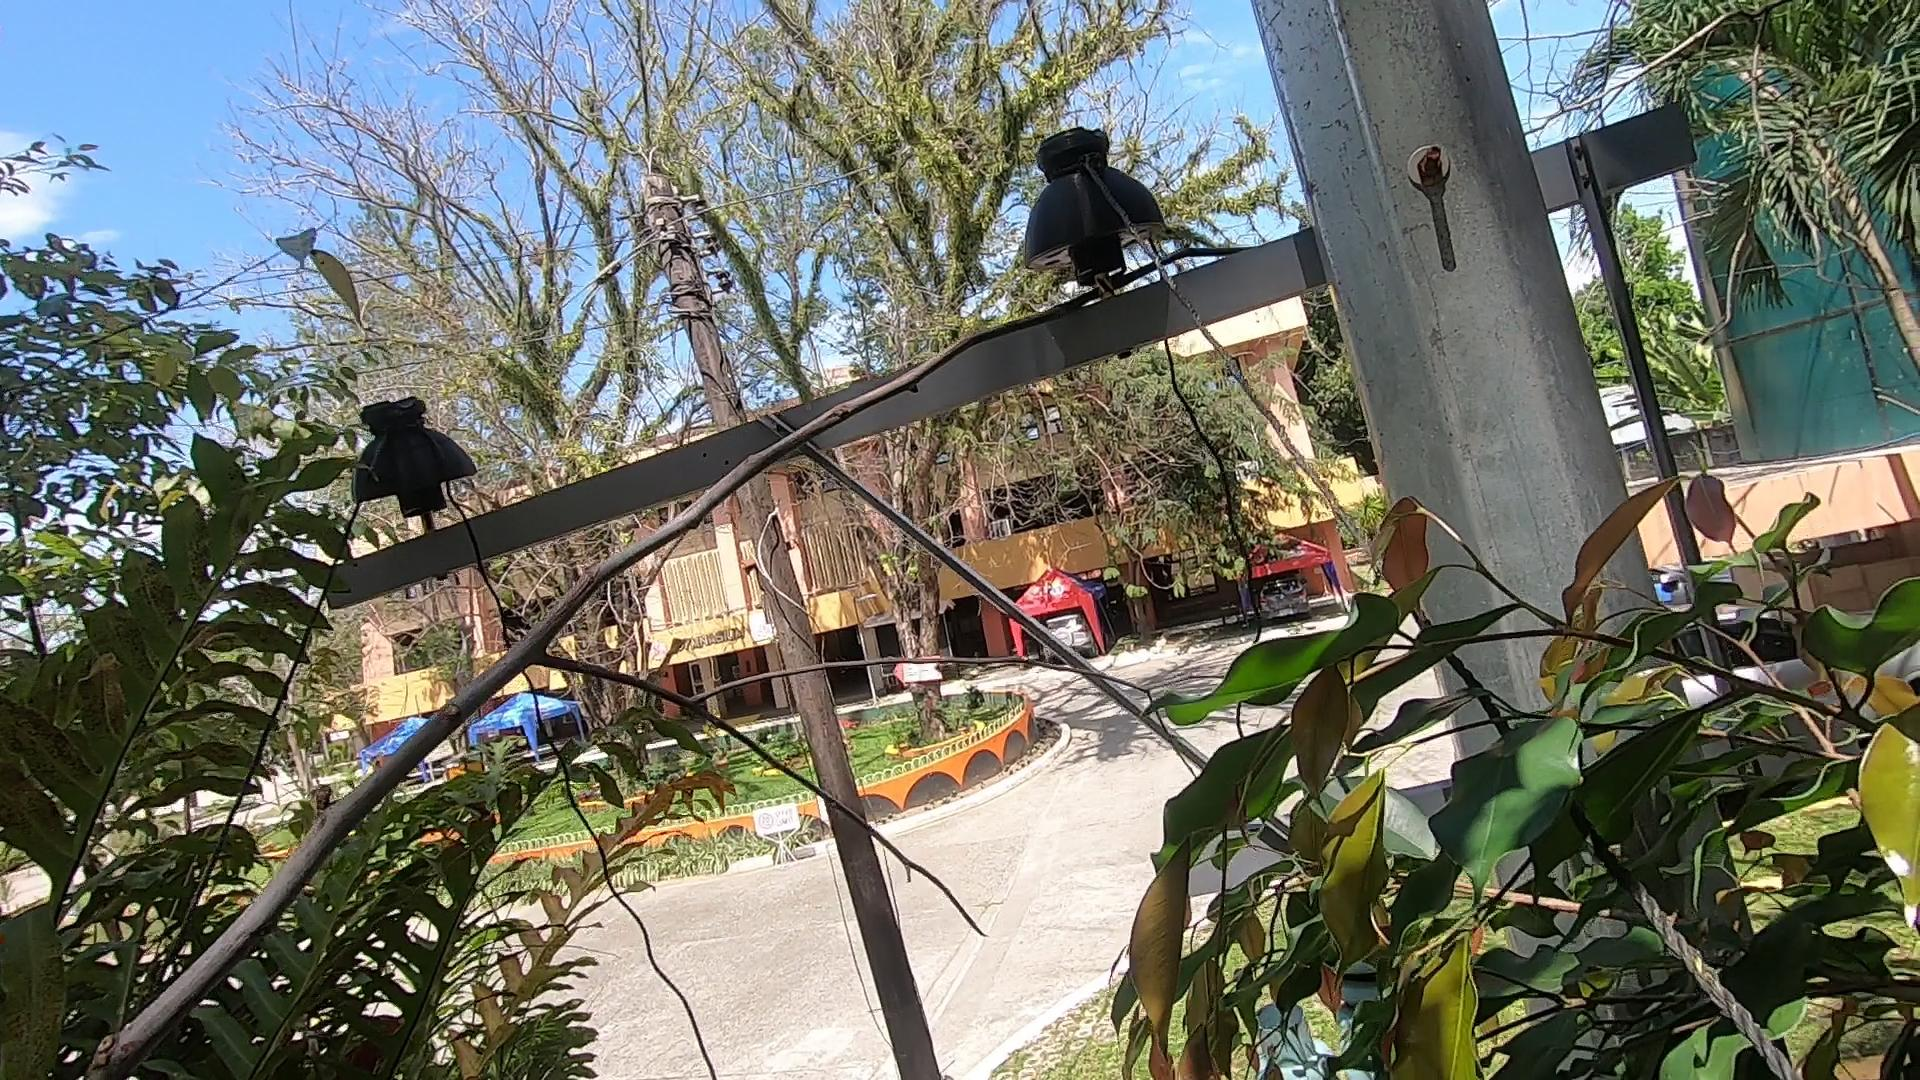branch with leaves: (1088, 495, 1812, 1080)
tree branch: (86, 112, 1221, 1080)
